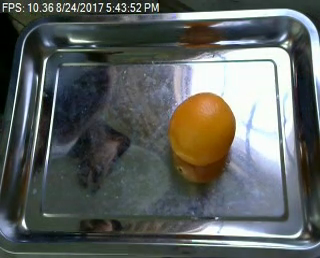Orange: (169, 92, 237, 166)
